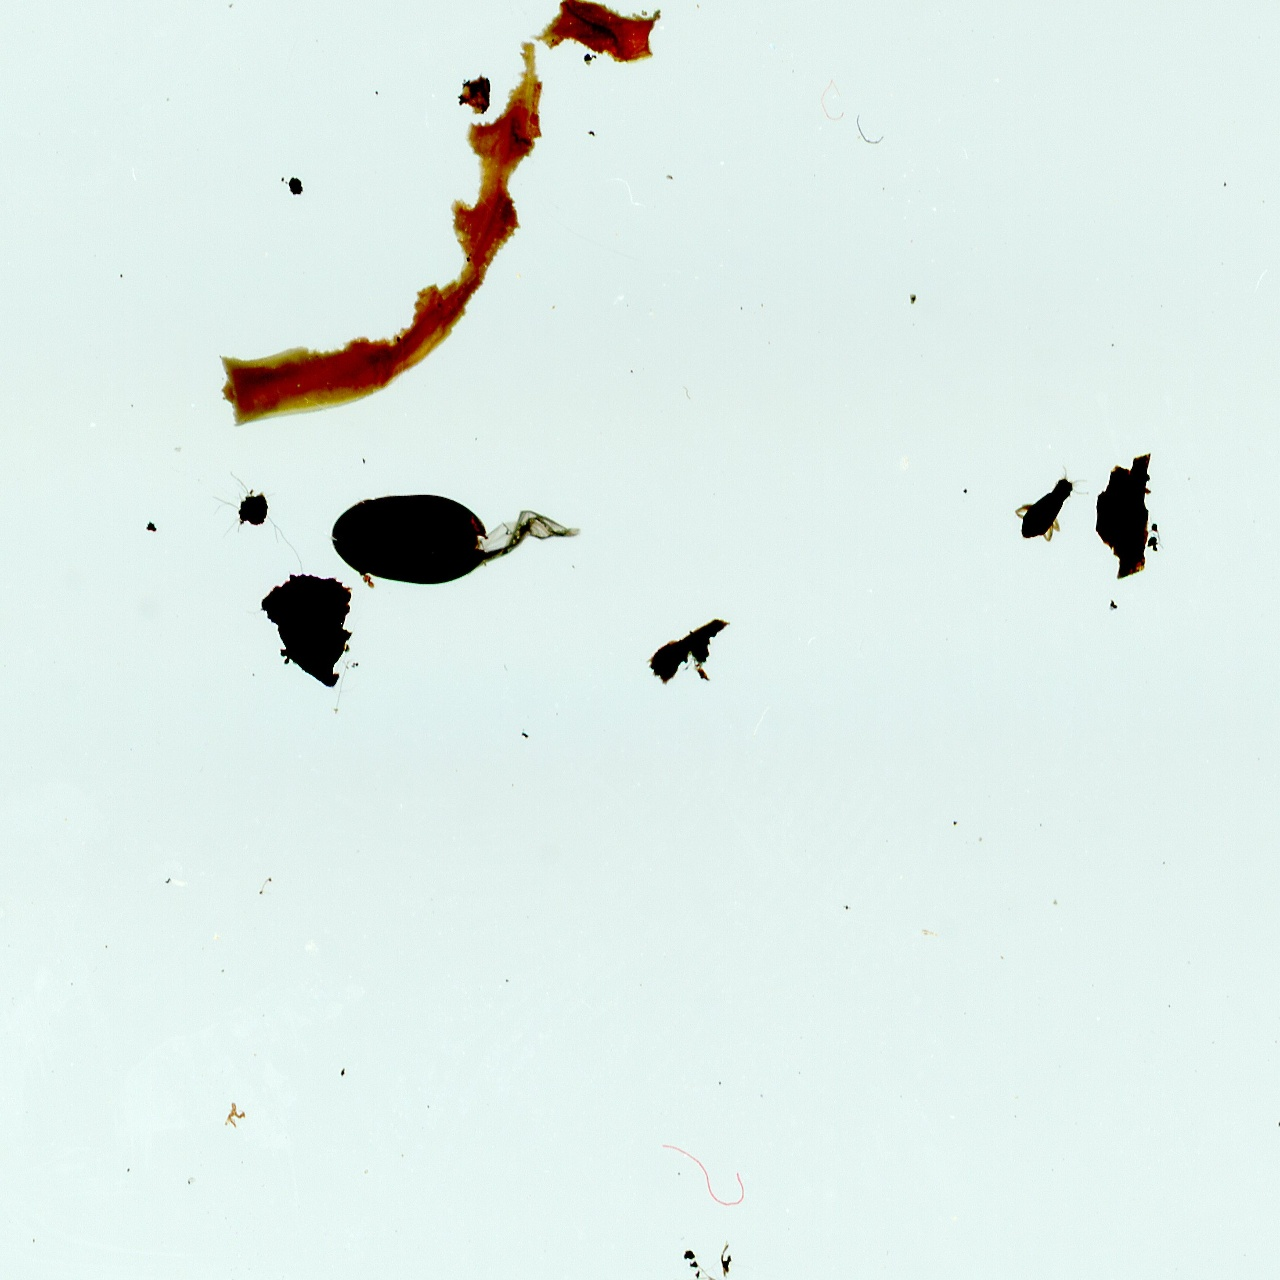arthropod: (329, 490, 585, 592), (1012, 465, 1092, 543)
